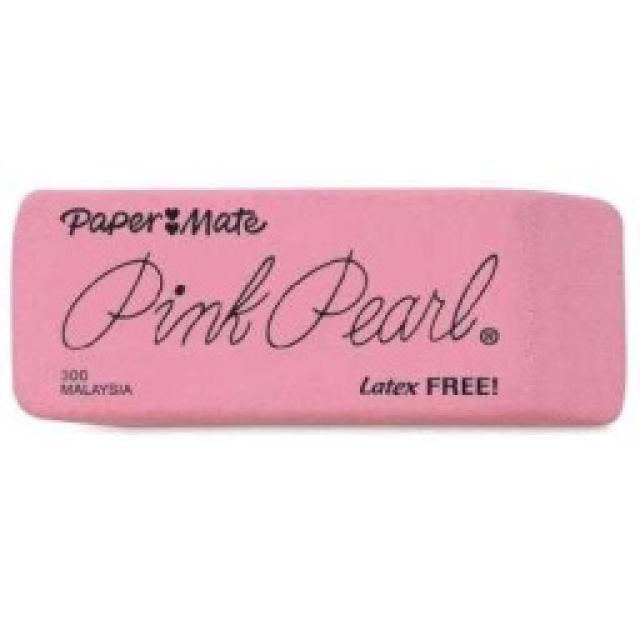Silgi: (11, 188, 624, 428)
